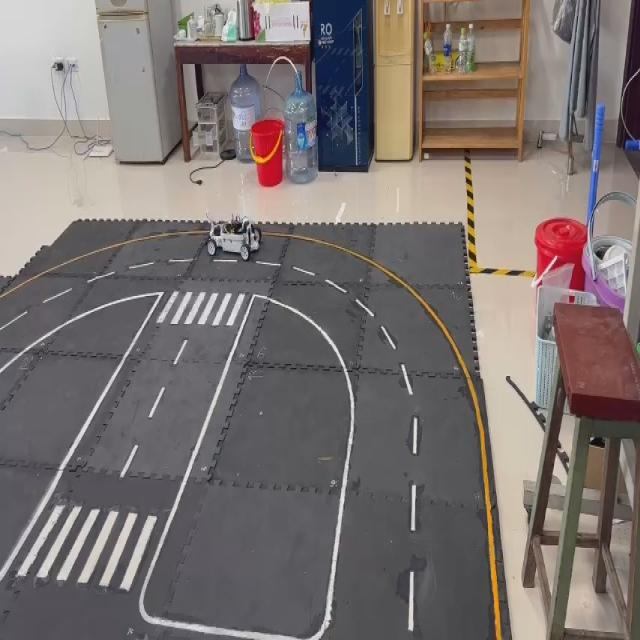SiCo-CAR: (204, 212, 262, 261)
